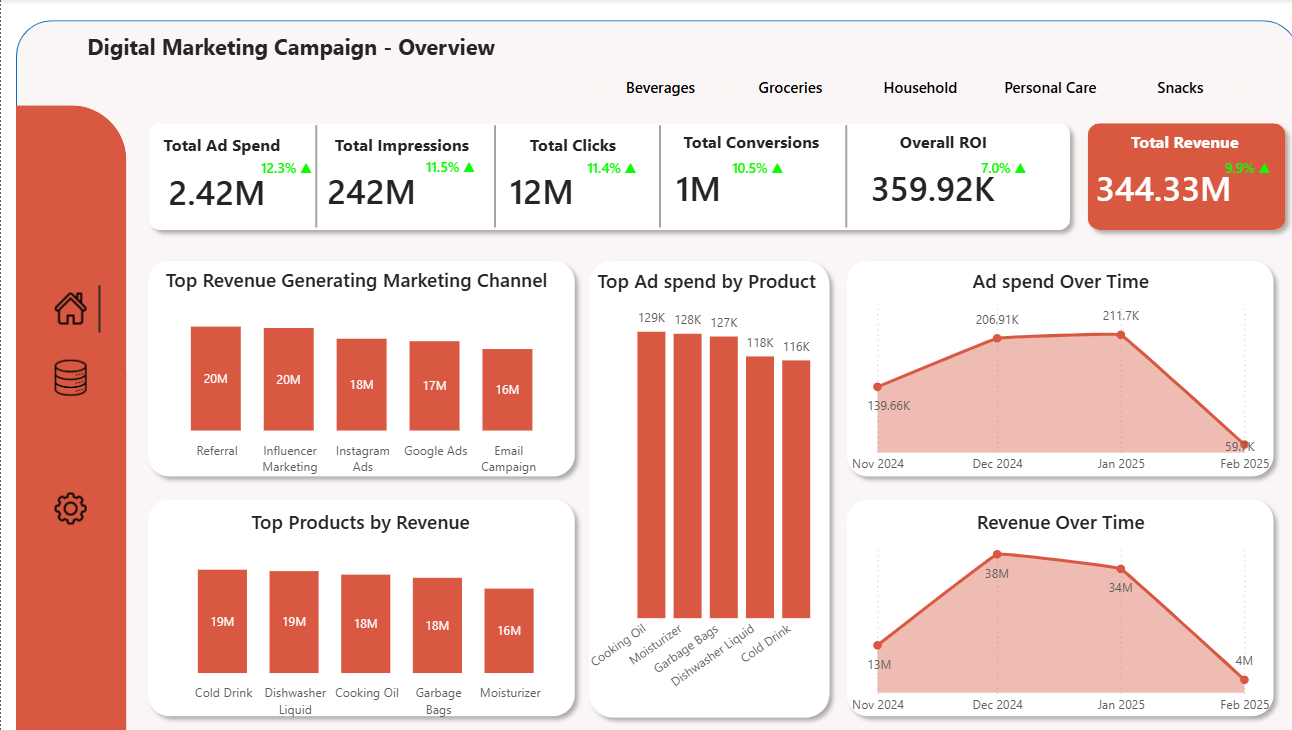

Layout of this report page (visuals, bound fields, positions):
{"tool":"powerbi","page":{"name":"Overview","canvas":[1280,720],"ordinal":0},"visuals":[{"type":"shape","box":[14.3,20.7,1255,699.9],"z":0},{"type":"shape","box":[14.3,103.4,108.2,617.2],"z":1000},{"type":"image","box":[47.7,279.9,41.4,46.1],"z":2000},{"type":"image","box":[37.9,434.1,41.6,46.5],"z":3000},{"type":"image","box":[47.7,346.8,41.4,46.1],"z":4000},{"type":"textbox","box":[80,26.7,515,65],"z":5000},{"type":"shape","box":[1054.6,112.9,211.6,122.5],"z":6000},{"type":"shape","box":[135.2,112.9,919,122.5],"z":7000},{"type":"shape","box":[302.2,124.1,12.7,100.2],"z":8000},{"type":"shape","box":[477.2,124.1,12.7,100.2],"z":9000},{"type":"shape","box":[637.8,124.1,12.7,100.2],"z":10000},{"type":"shape","box":[820.8,124.1,12.7,100.2],"z":11000},{"type":"shape","box":[566.7,246.7,253.3,465],"z":12000},{"type":"shape","box":[817.6,246.5,435.8,229],"z":13000},{"type":"shape","box":[817.6,480.4,435.8,230],"z":14000},{"type":"shape","box":[134.1,247,435.8,229],"z":15000},{"type":"shape","box":[134.1,480.5,435.8,230],"z":16000},{"type":"textbox","box":[154.3,125.7,146.3,35],"z":17000},{"type":"textbox","box":[321.3,125.7,151.1,35],"z":18000},{"type":"textbox","box":[512.2,125.7,108.2,35],"z":19000},{"type":"textbox","box":[663.3,124.1,160.7,36.6],"z":20000},{"type":"textbox","box":[874.8,124.1,111.3,35],"z":21000},{"type":"textbox","box":[1100.7,124.1,136.8,36.6],"z":22000},{"type":"cardVisual","fields":{"Data":["Sum(Table1.Ad Spend (INR))"]},"box":[146.3,143.2,135.2,81.1],"z":23000},{"type":"cardVisual","fields":{"Data":["Table1.AdSpend MOM% with Arrow"]},"box":[237,132,112.9,57.3],"z":24000},{"type":"cardVisual","fields":{"Data":["Sum(Table1.Impressions)"]},"box":[302.2,141.6,135.2,81.1],"z":25000},{"type":"cardVisual","fields":{"Data":["Table1.iMPRESSION MOM% with Arrow"]},"box":[398.6,131.4,112.9,57.3],"z":26000},{"type":"cardVisual","fields":{"Data":["Sum(Table1.Clicks)"]},"box":[480.4,141.6,135.2,81.1],"z":27000},{"type":"cardVisual","fields":{"Data":["Table1.Clicks MOM% with Arrow"]},"box":[556.7,132,112.9,57.3],"z":28000},{"type":"cardVisual","fields":{"Data":["Sum(Table1.Conversions)"]},"box":[642.6,140,135.2,81.1],"z":29000},{"type":"cardVisual","fields":{"Data":["Table1.Conversion MOM% with Arrow"]},"box":[698.3,132,112.9,57.3],"z":30000},{"type":"cardVisual","fields":{"Data":["Sum(Table1.ROI)"]},"box":[833.5,140,168.6,81.1],"z":31000},{"type":"cardVisual","fields":{"Data":["Table1.ROI MOM% with Arrow"]},"box":[941.6,132,112.9,57.3],"z":32000},{"type":"cardVisual","fields":{"Data":["Sum(Table1.Revenue (INR))"]},"box":[1054.6,140,168.6,81.1],"z":33000},{"type":"cardVisual","fields":{"Data":["Table1.Revenue MOM% with Arrow"]},"box":[1180.2,132,85.9,57.3],"z":34000},{"type":"columnChart","title":"Top Ad spend by Product","fields":{"Category":["Table1.Product Name"],"Y":["Sum(Table1.Ad Spend (INR))"]},"box":[568.3,263.3,243.3,435],"z":35000},{"type":"columnChart","title":"Top Products by Revenue","fields":{"Category":["Table1.Product Name"],"Y":["Sum(Table1.Revenue (INR))"]},"box":[146.7,498.3,410,211.7],"z":36000},{"type":"columnChart","title":"Top Revenue Generating Marketing Channel","fields":{"Y":["Sum(Table1.Revenue (INR))"],"Category":["Table1.Marketing Channel"]},"box":[140,261.7,416.7,211.7],"z":37000},{"type":"lineChart","title":"Ad spend Over Time","fields":{"Category":["DateTable.Date.Variation.Date Hierarchy.Year","DateTable.Date.Variation.Date Hierarchy.Month"],"Y":["Sum(Table1.Ad Spend (INR))"]},"box":[826.7,263.3,420,210],"z":38000},{"type":"lineChart","title":"Revenue Over Time","fields":{"Category":["DateTable.Date.Variation.Date Hierarchy.Year","DateTable.Date.Variation.Date Hierarchy.Month"],"Y":["Sum(Table1.Revenue (INR))"]},"box":[826.7,498.3,420,210],"z":39000},{"type":"shape","box":[76.3,279.9,41,46.1],"z":40000},{"type":"slicer","fields":{"Values":["Table1.Category"]},"box":[556.7,60.4,684,52.5],"z":43000}]}

Visuals, with their boxes in screenshot pixels (x1, y1, x2, y2), scaled from the page's 1280x720 canvas onto the 1292x730 screenshot:
shape: 14 21 1281 729
shape: 14 105 124 729
image: 48 284 90 331
image: 38 440 80 487
image: 48 352 90 398
textbox: 81 27 601 93
shape: 1064 114 1278 239
shape: 136 114 1064 239
shape: 305 126 318 227
shape: 482 126 494 227
shape: 644 126 657 227
shape: 828 126 841 227
shape: 572 250 828 722
shape: 825 250 1265 482
shape: 825 487 1265 720
shape: 135 250 575 483
shape: 135 487 575 720
textbox: 156 127 303 163
textbox: 324 127 477 163
textbox: 517 127 626 163
textbox: 670 126 832 163
textbox: 883 126 995 161
textbox: 1111 126 1249 163
cardVisual - Sum(Table1.Ad Spend (INR)): 148 145 284 227
cardVisual - Table1.AdSpend MOM% with Arrow: 239 134 353 192
cardVisual - Sum(Table1.Impressions): 305 144 442 226
cardVisual - Table1.iMPRESSION MOM% with Arrow: 402 133 516 191
cardVisual - Sum(Table1.Clicks): 485 144 621 226
cardVisual - Table1.Clicks MOM% with Arrow: 562 134 676 192
cardVisual - Sum(Table1.Conversions): 649 142 785 224
cardVisual - Table1.Conversion MOM% with Arrow: 705 134 819 192
cardVisual - Sum(Table1.ROI): 841 142 1011 224
cardVisual - Table1.ROI MOM% with Arrow: 950 134 1064 192
cardVisual - Sum(Table1.Revenue (INR)): 1064 142 1235 224
cardVisual - Table1.Revenue MOM% with Arrow: 1191 134 1278 192
"Top Ad spend by Product" columnChart: 574 267 819 708
"Top Products by Revenue" columnChart: 148 505 562 720
"Top Revenue Generating Marketing Channel" columnChart: 141 265 562 480
"Ad spend Over Time" lineChart: 834 267 1258 480
"Revenue Over Time" lineChart: 834 505 1258 718
shape: 77 284 118 331
slicer - Table1.Category: 562 61 1252 114
